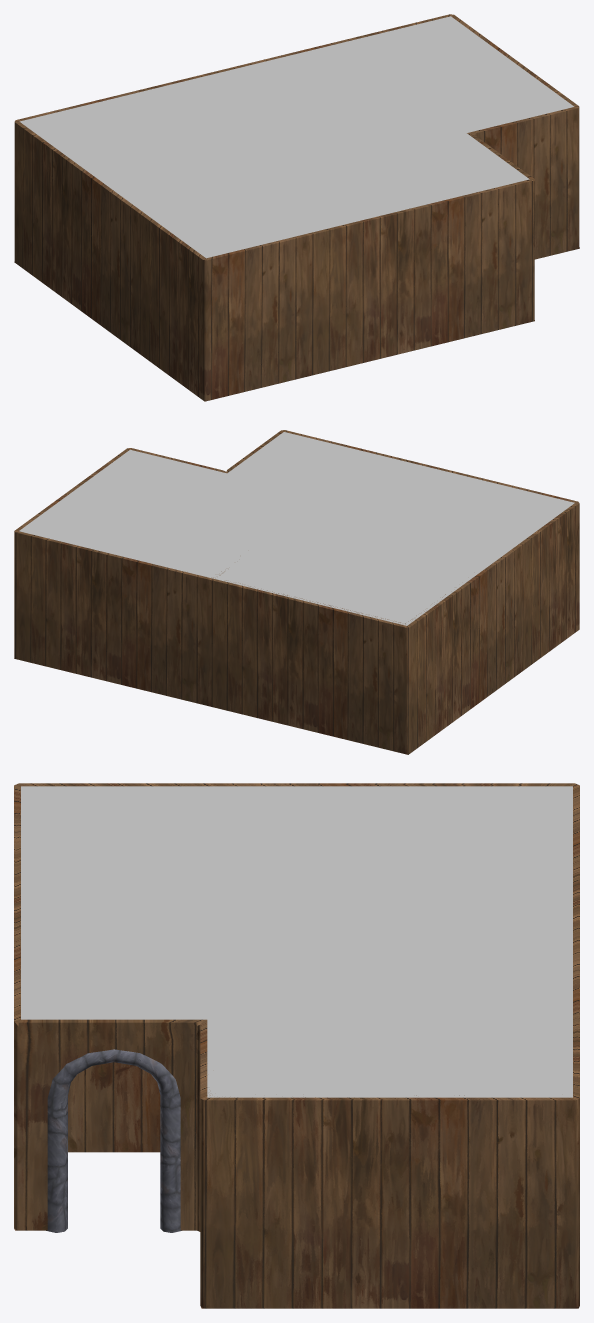
The picture shows the model from 3 angles, top to bottom: view 1: azimuth 30°, elevation 25°; view 2: azimuth 150°, elevation 25°; view 3: azimuth 270°, elevation 25°; orthographic projection. The views are drawn at different scales.
Parts seen in each view (by area): view 1: Plane.083, HeadFloor.004; view 2: Plane.083, HeadFloor.004; view 3: HeadFloor.004, Plane.083, Plane.017.
Boxes of the visible parts, x1,y1,x2,y2 form: Plane.083: (14, 14, 579, 401); HeadFloor.004: (19, 16, 574, 258); Plane.083: (14, 430, 579, 754); HeadFloor.004: (19, 432, 574, 625); HeadFloor.004: (21, 786, 572, 1097); Plane.083: (14, 783, 579, 1308); Plane.017: (46, 1049, 181, 1232).
Size of the model in its own units: 16.3 by 5 by 12.3.
